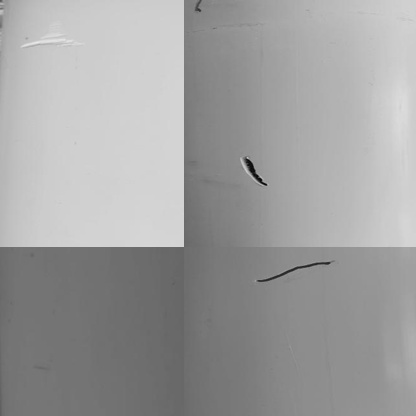fengxi: (257, 255, 338, 285)
kongdong: (238, 153, 267, 188), (191, 2, 201, 10)
sunshang: (22, 19, 78, 55)
